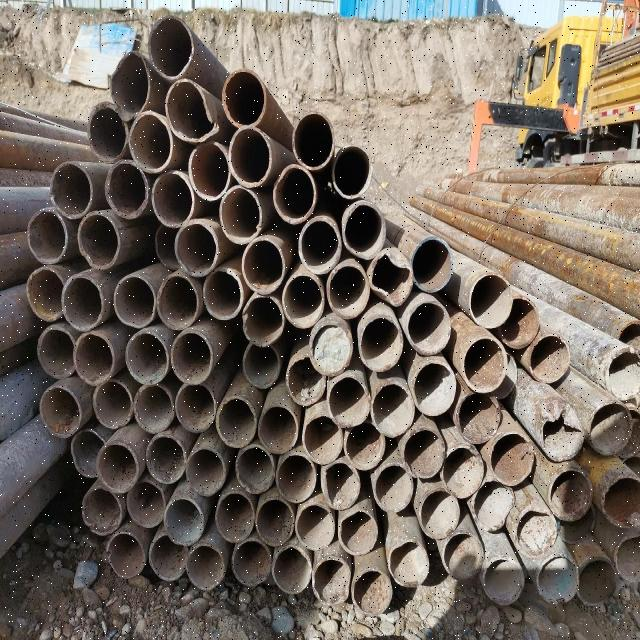pipe: (148, 18, 197, 78), (166, 82, 214, 142), (460, 336, 508, 394), (230, 126, 274, 188), (357, 316, 403, 374), (221, 71, 268, 127), (218, 186, 264, 243), (588, 398, 634, 454), (467, 274, 514, 328), (131, 112, 173, 172), (78, 213, 122, 270), (86, 104, 129, 162), (406, 300, 452, 354), (175, 220, 219, 276), (241, 236, 285, 292), (155, 274, 199, 329), (125, 331, 169, 386), (96, 439, 140, 494), (50, 161, 93, 217), (110, 54, 150, 114), (293, 111, 335, 168), (275, 166, 317, 223), (344, 200, 385, 258), (113, 276, 157, 330), (453, 397, 504, 443), (409, 238, 454, 290), (310, 322, 353, 376), (371, 383, 414, 437), (203, 266, 243, 324), (26, 267, 66, 325), (62, 274, 104, 329), (538, 408, 584, 458), (413, 364, 457, 416), (549, 466, 591, 520), (27, 208, 67, 264), (299, 218, 339, 274), (497, 297, 540, 349), (190, 142, 228, 200), (108, 160, 146, 218), (404, 430, 448, 480), (282, 277, 324, 329), (172, 332, 212, 386), (489, 436, 534, 484), (154, 170, 191, 228), (528, 336, 572, 384), (442, 446, 484, 496), (220, 393, 258, 448), (332, 145, 372, 197), (74, 334, 114, 386), (327, 266, 368, 316), (40, 388, 81, 438), (132, 384, 176, 430), (471, 486, 515, 532), (484, 559, 526, 607), (184, 448, 226, 496), (242, 296, 282, 346), (328, 378, 368, 428), (391, 538, 431, 588), (147, 434, 185, 486), (605, 474, 640, 530), (442, 535, 486, 579), (258, 404, 300, 450), (338, 510, 380, 556), (81, 488, 123, 534), (371, 256, 411, 304), (375, 463, 415, 511), (271, 546, 311, 594), (578, 558, 616, 608), (216, 492, 254, 542), (107, 532, 145, 582), (38, 327, 74, 379), (236, 446, 275, 494), (166, 496, 203, 546), (417, 494, 461, 536), (176, 387, 216, 433), (538, 556, 576, 604), (277, 454, 315, 502), (321, 463, 361, 508), (353, 568, 392, 614), (92, 383, 130, 429), (517, 508, 555, 554), (296, 505, 334, 551), (126, 482, 164, 528), (232, 542, 270, 588), (187, 544, 225, 590), (243, 343, 281, 388), (343, 426, 385, 466), (286, 362, 324, 406), (148, 535, 186, 579), (608, 352, 640, 404), (258, 500, 294, 546), (71, 429, 103, 479), (558, 509, 596, 543), (152, 225, 179, 271), (616, 534, 640, 584), (620, 317, 640, 349)
